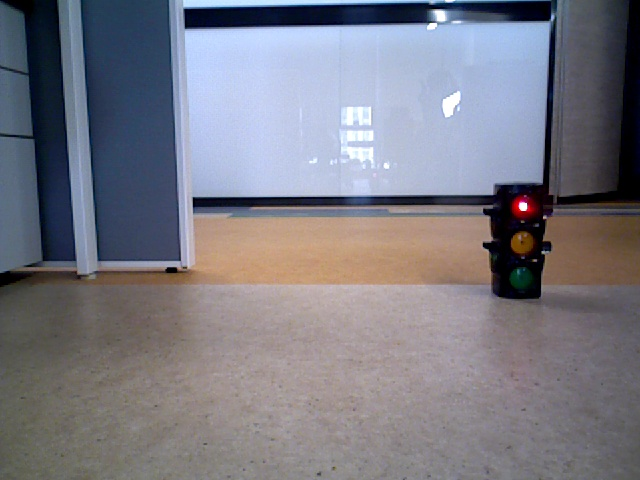red: (492, 182, 538, 293)
